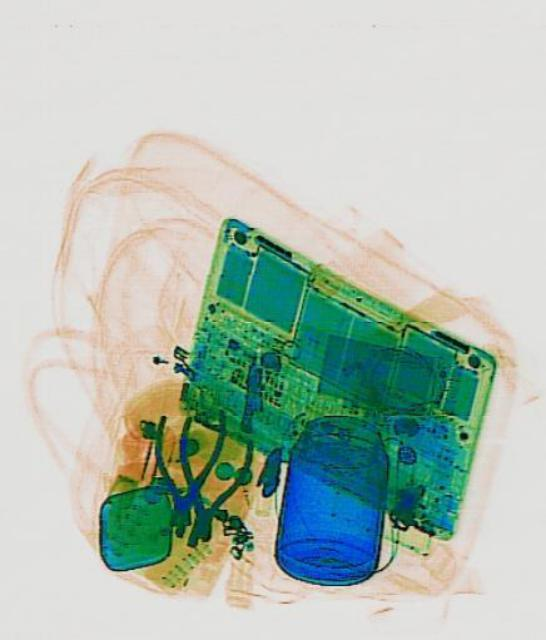Pliers: (159, 414, 254, 554), (145, 402, 222, 528)
